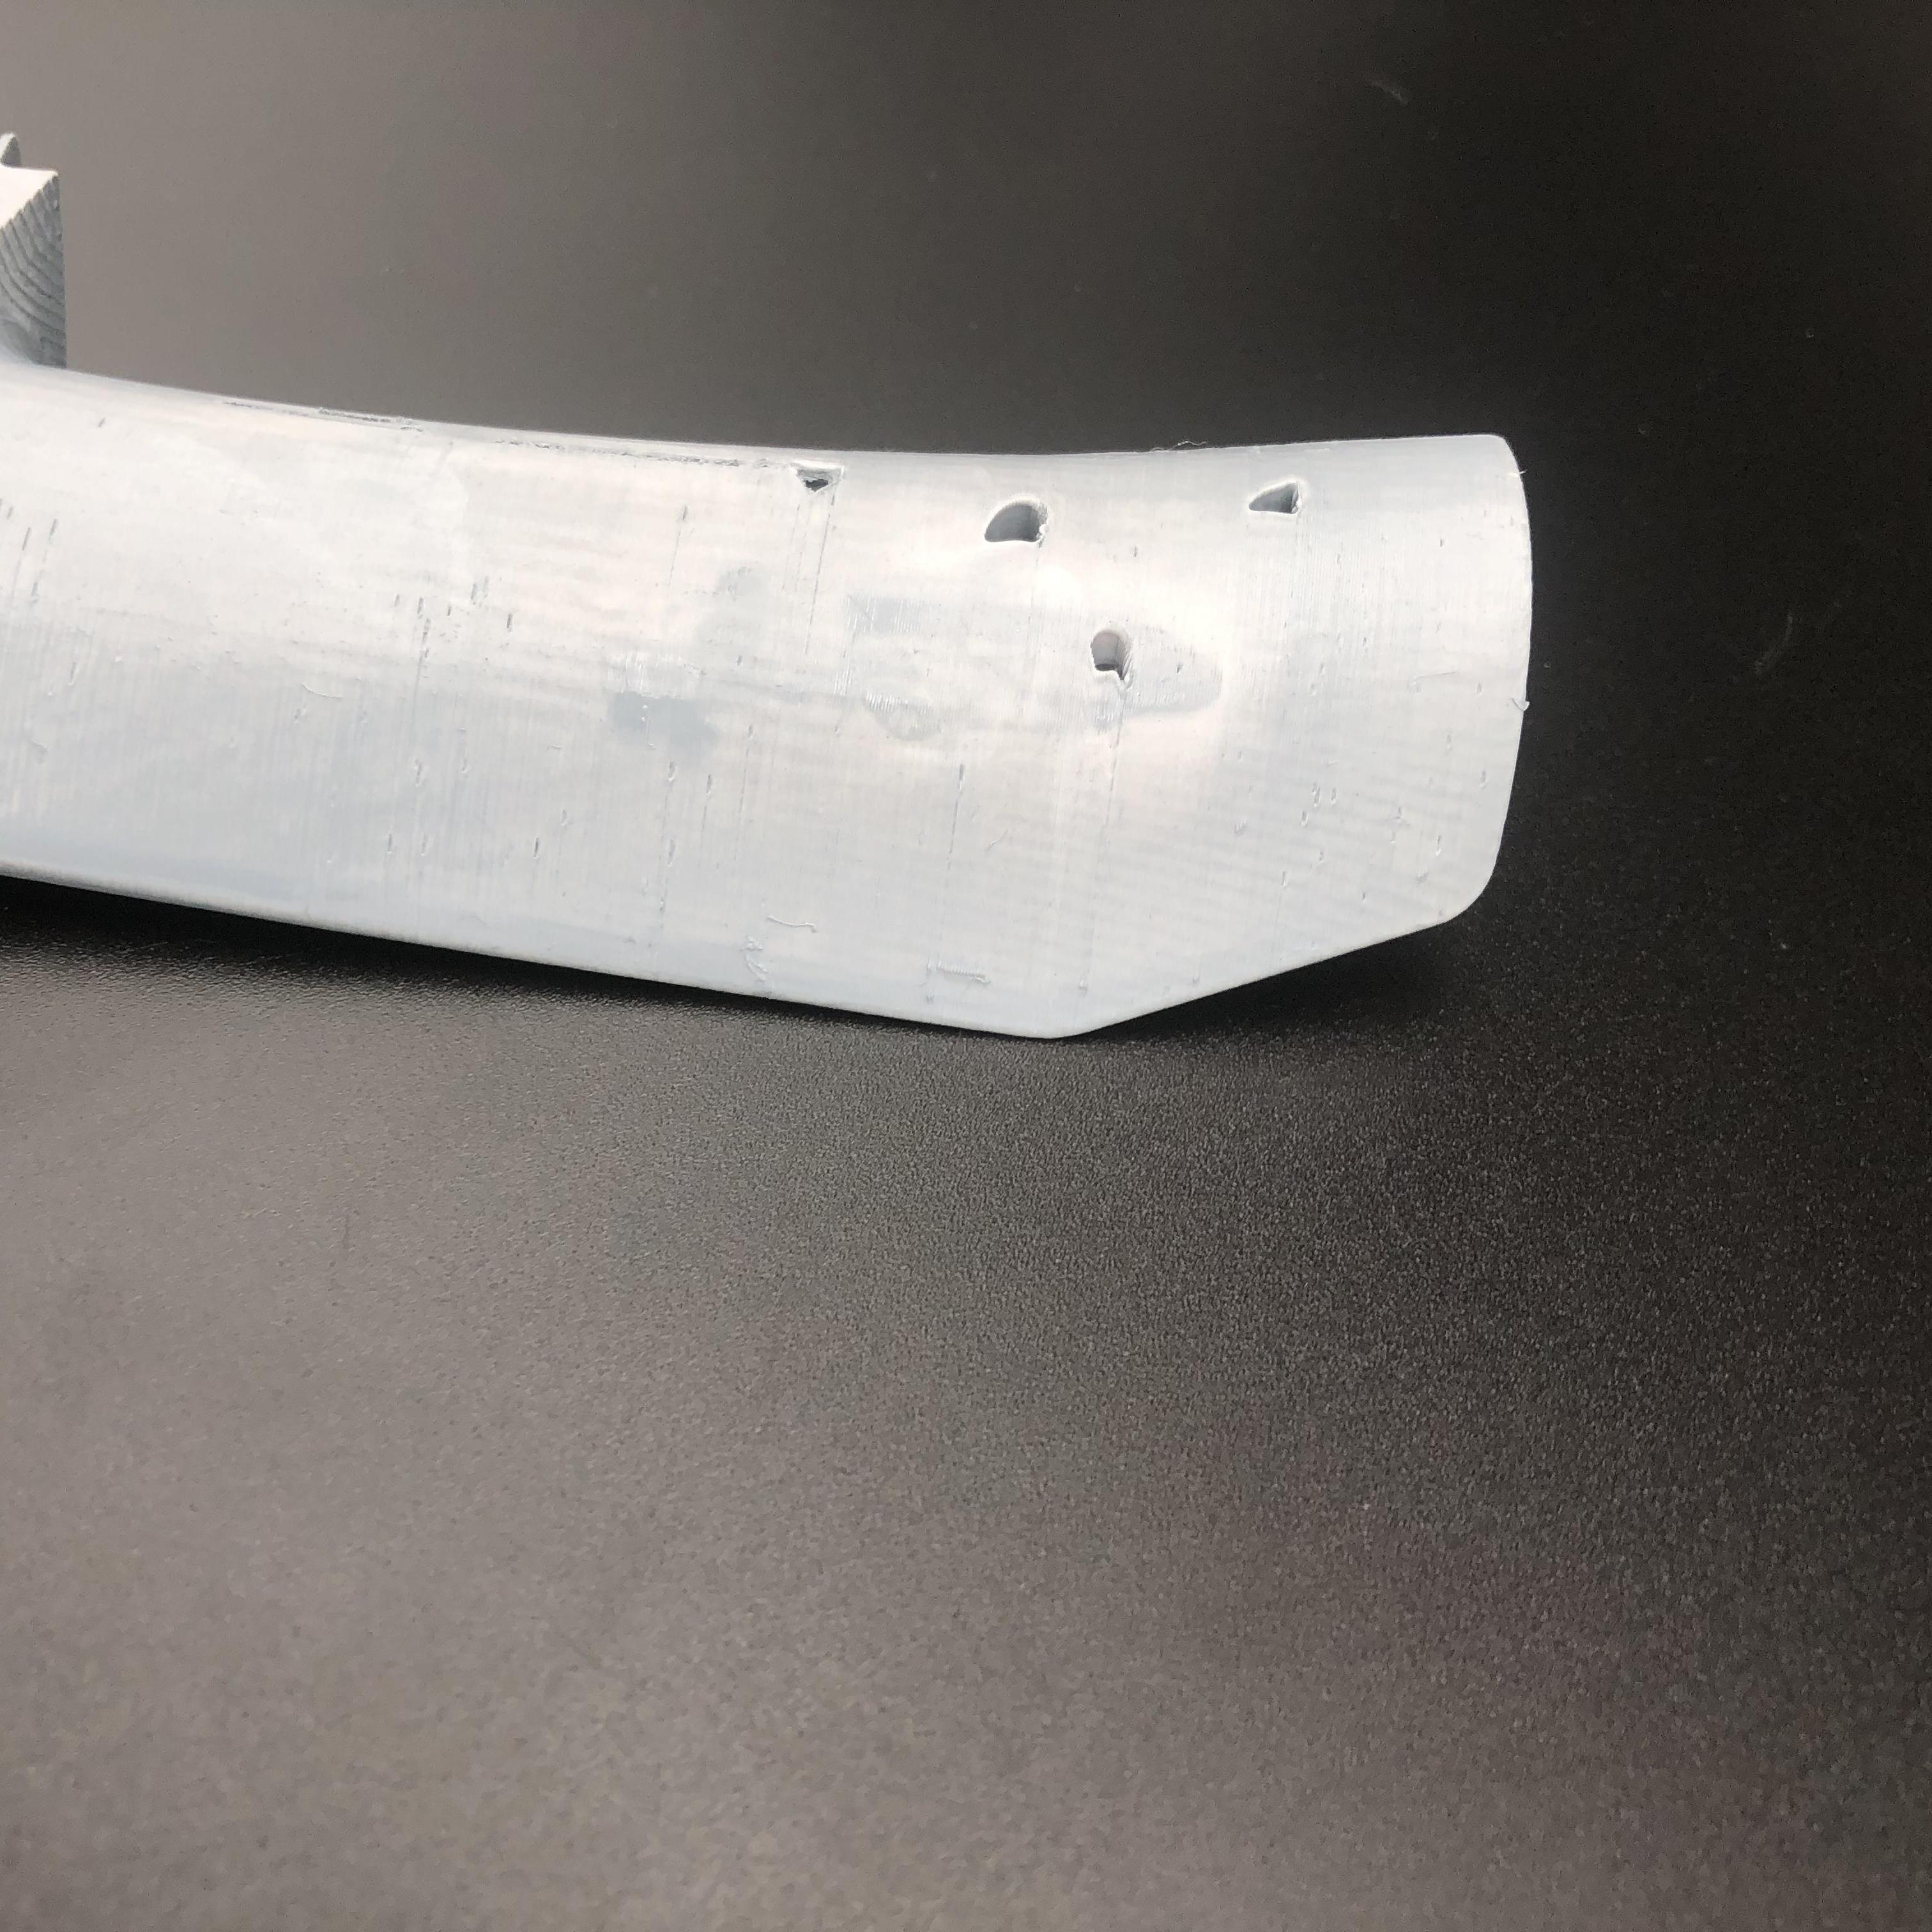breakdown: (786, 453, 1060, 557), (1083, 607, 1175, 702), (1253, 471, 1329, 533)
